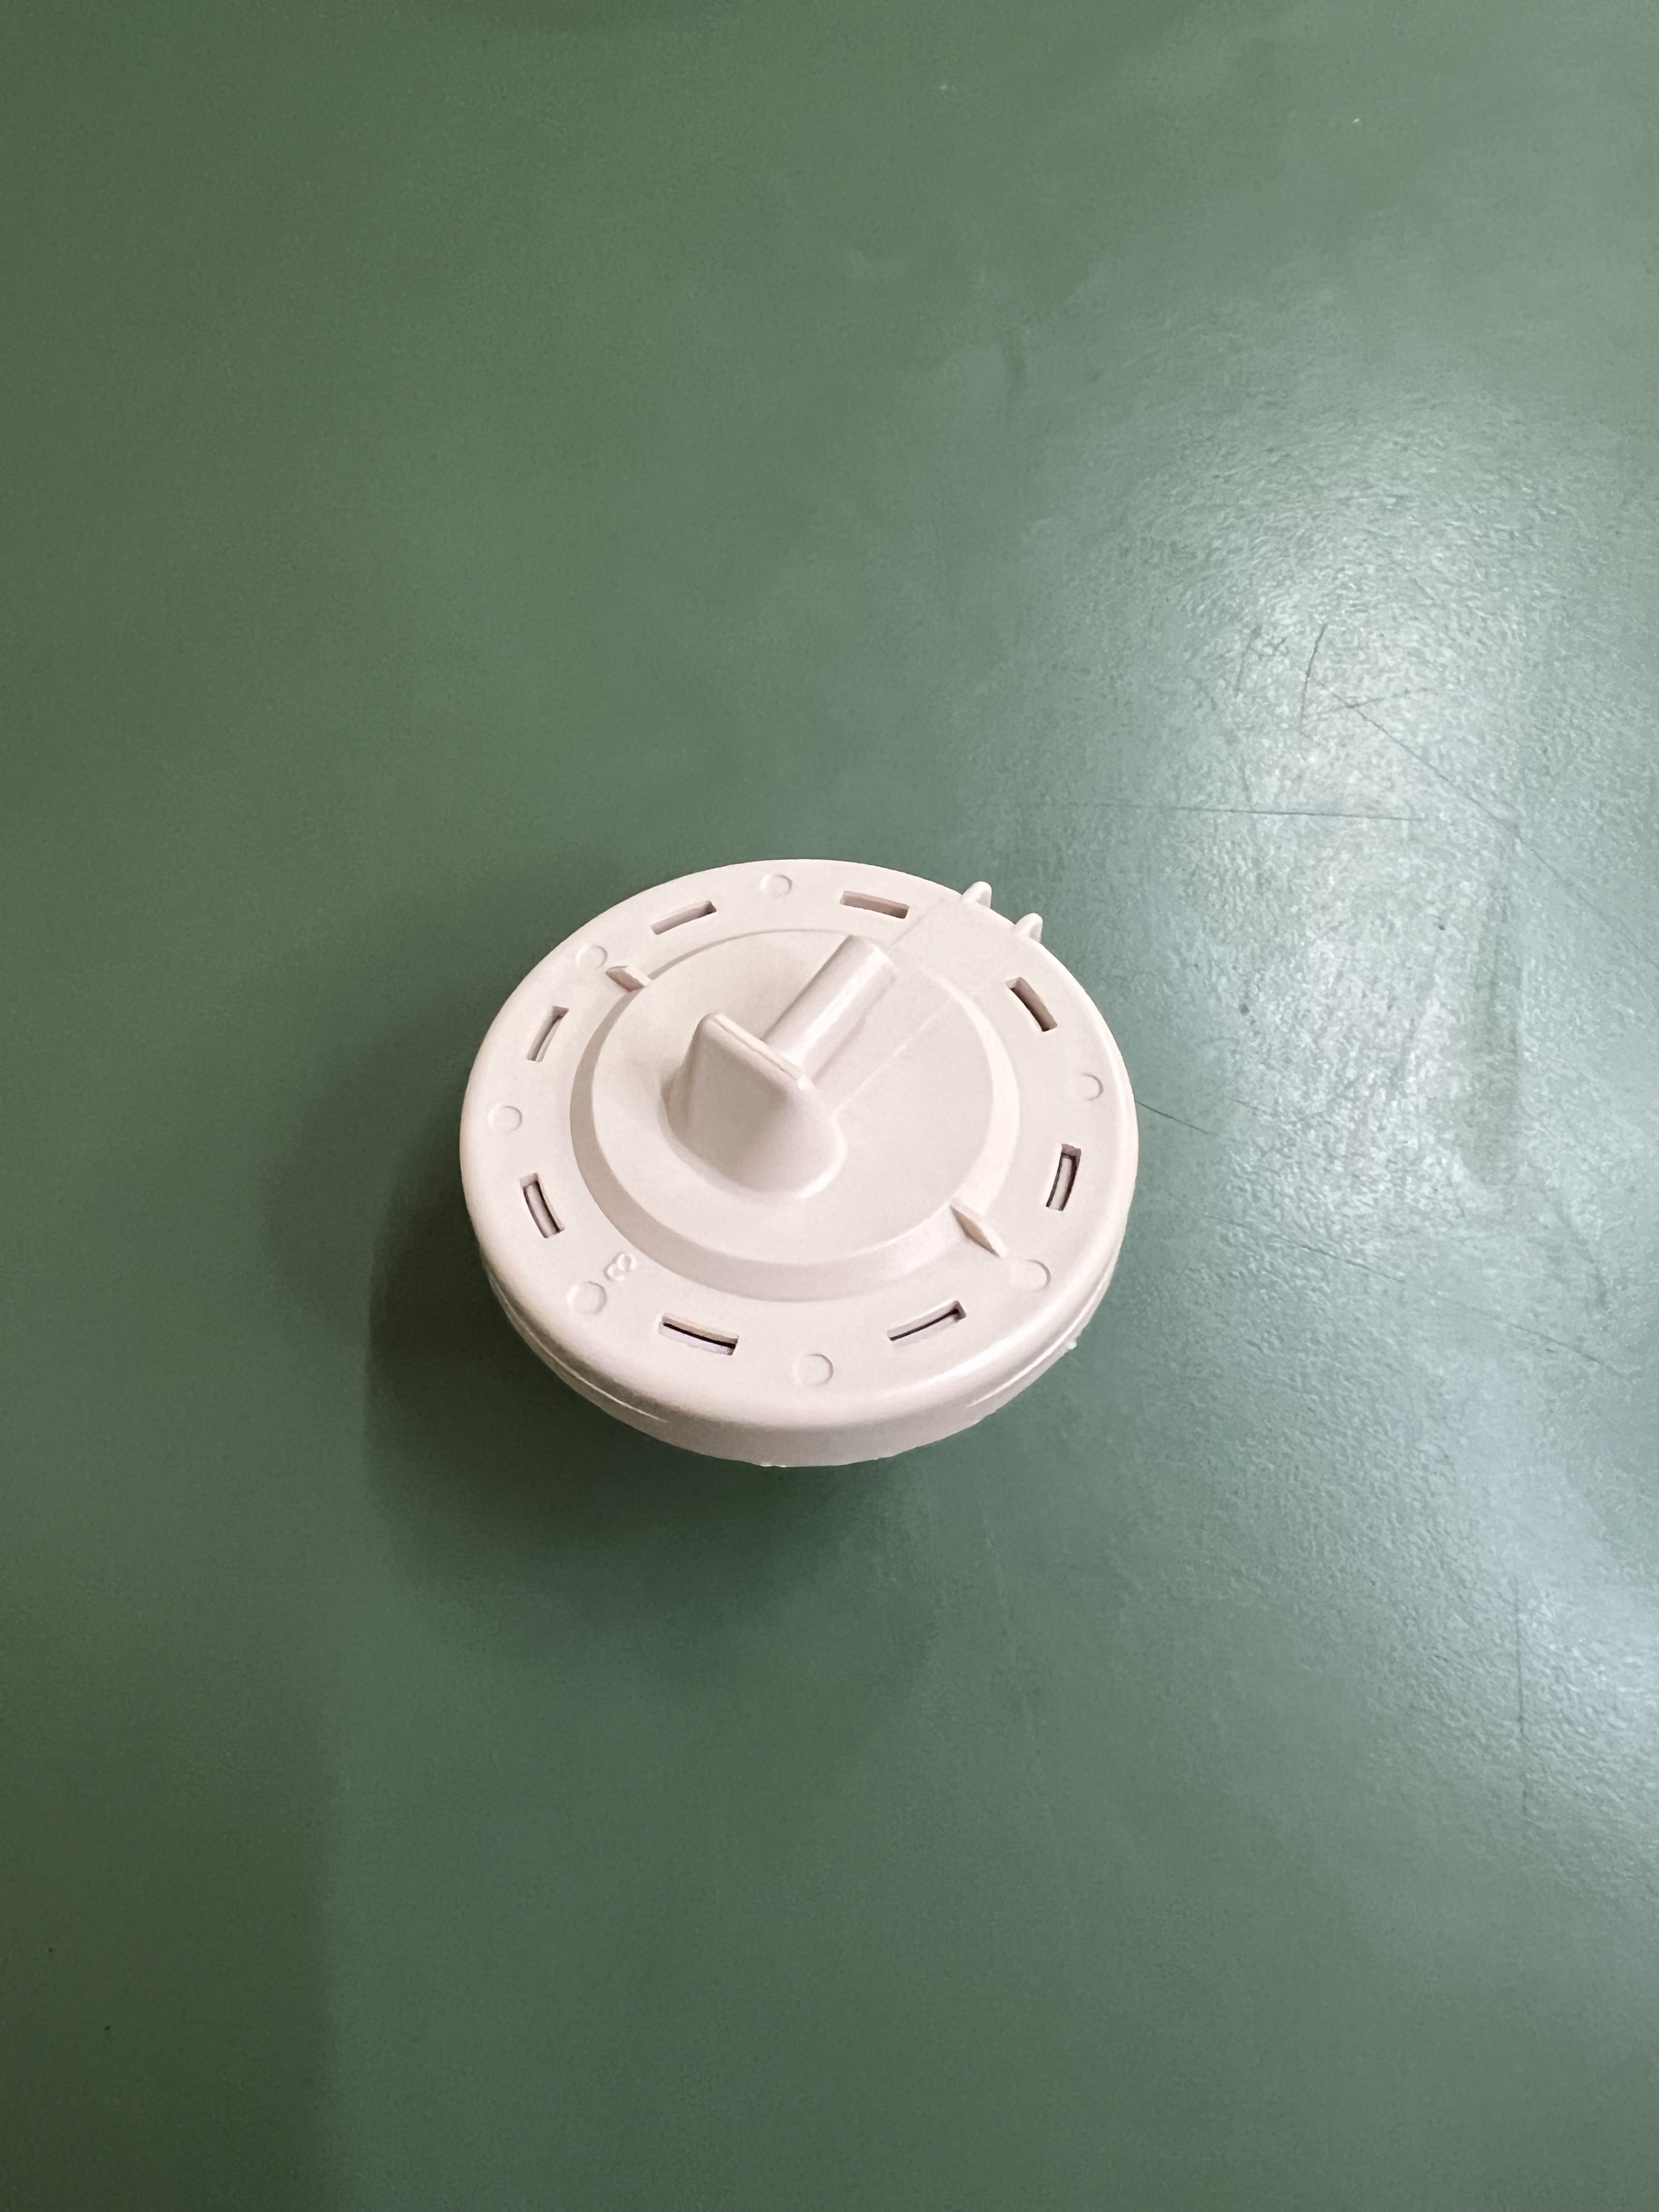pressure_sensor: (437, 827, 1166, 1467)
